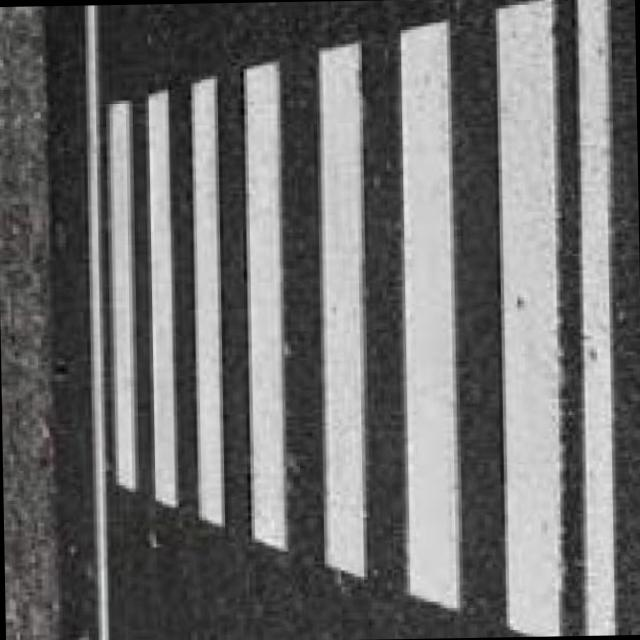zebra: (99, 0, 580, 640)
